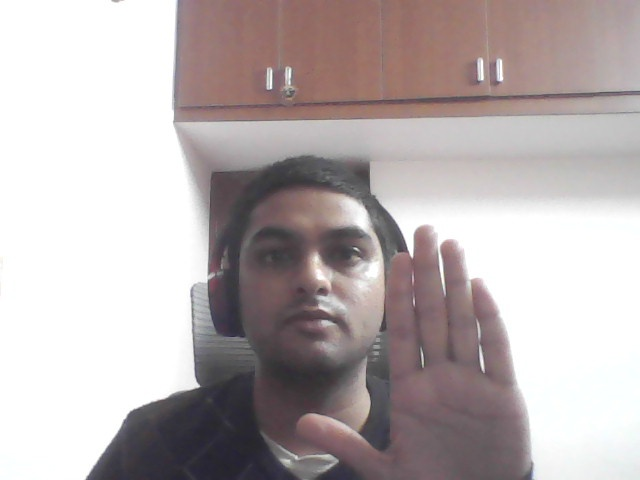Hello: (285, 212, 568, 479)
